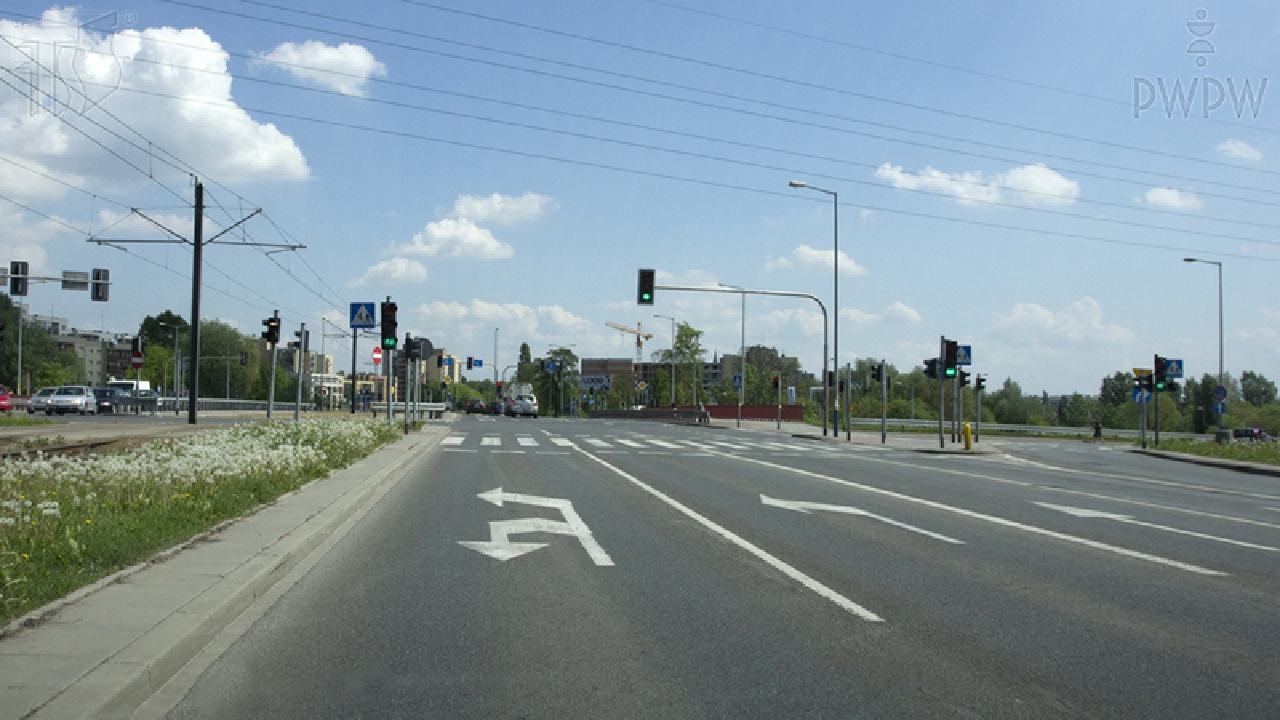Green: (382, 303, 396, 349), (639, 270, 652, 303), (945, 341, 955, 378)
